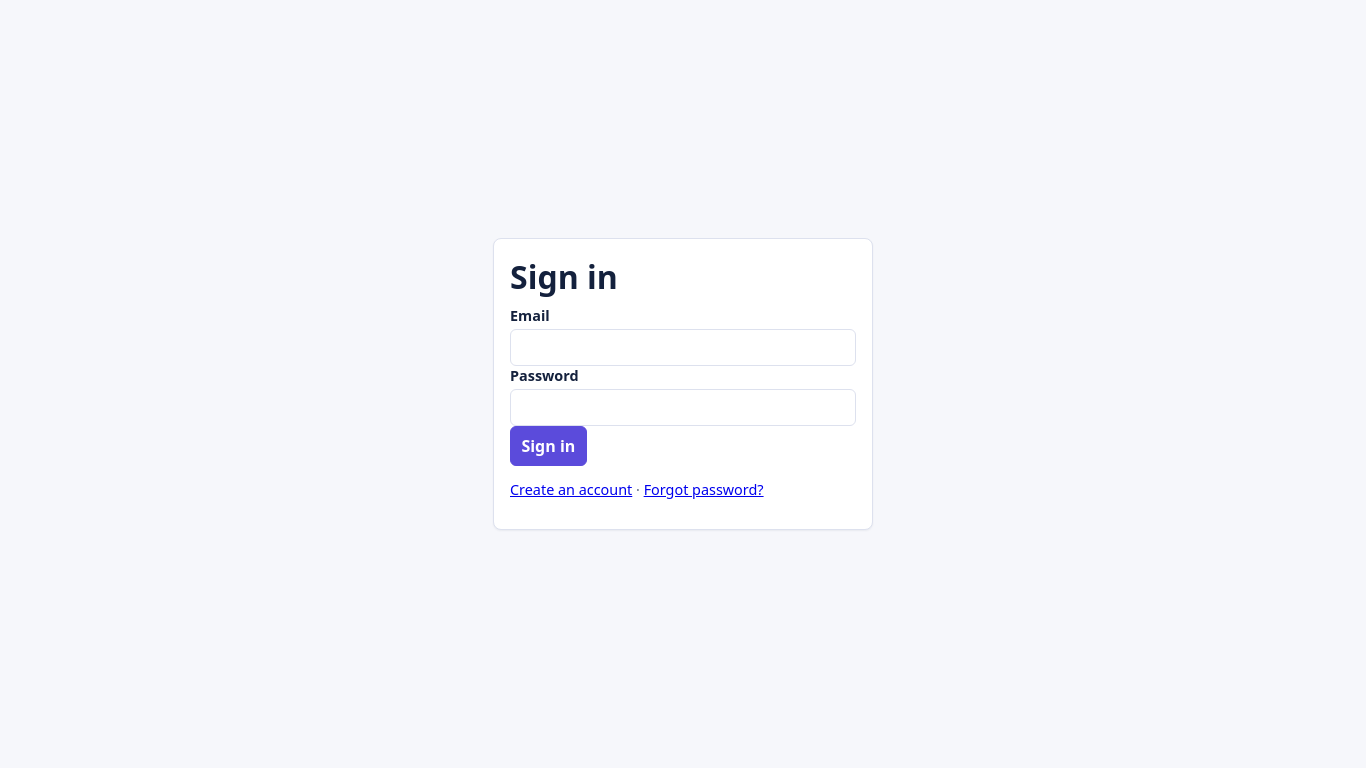
Scenario: authentication › protects routes, rejects bad credentials, signs in and out
Expected: the heading "Sign in" is shown, top-left (510, 255), bottom-right (618, 298)
In the field labelled "Email": [683, 347] box top-left (510, 329), bottom-right (856, 366), type "a@x.com"
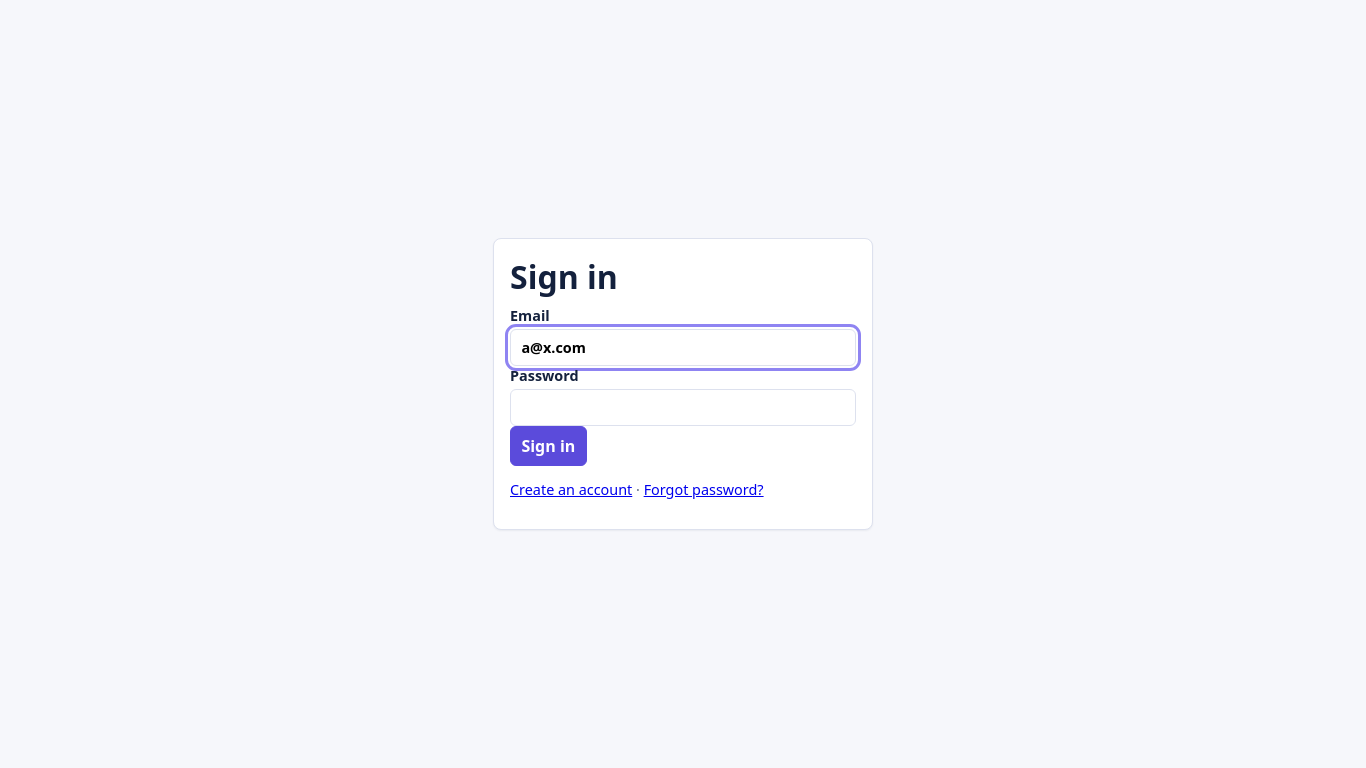
In the password field labelled "Password": [683, 407] box top-left (510, 389), bottom-right (856, 426), type "wrongpass1"
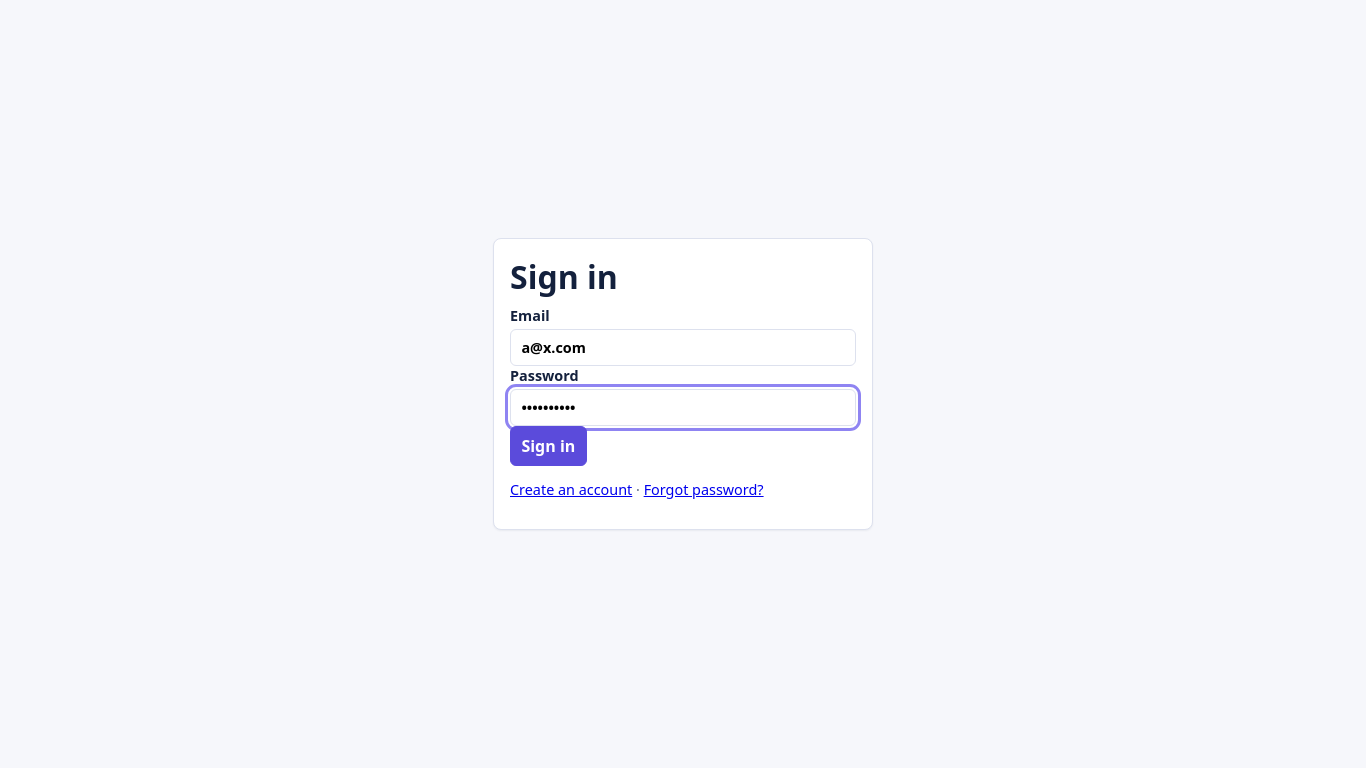
Click the button "Sign in": [548, 446] box top-left (510, 426), bottom-right (587, 466)
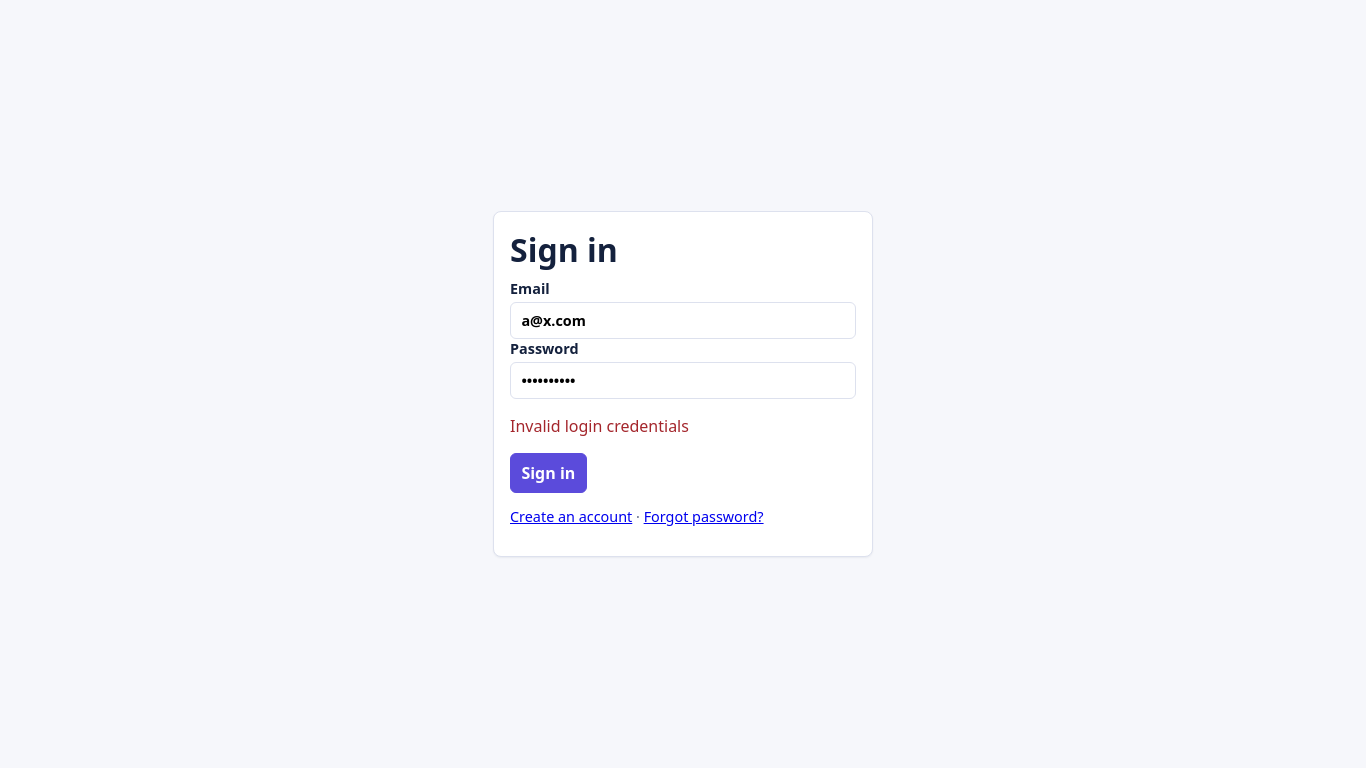
Expected: the message shows "Invalid login", top-left (510, 415), bottom-right (689, 437)
In the password field labelled "Password": [683, 380] box top-left (510, 362), bottom-right (856, 399), type "password1"
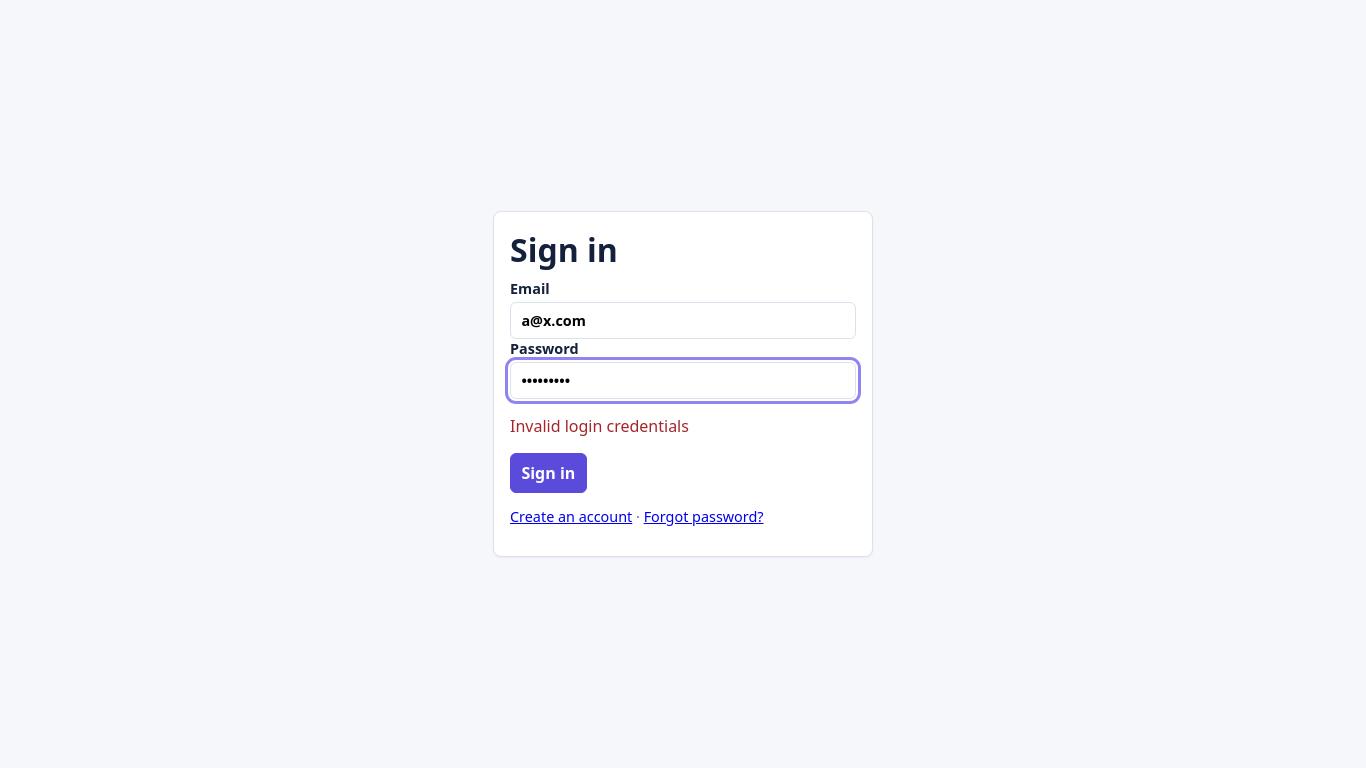
Click the button "Sign in": [548, 473] box top-left (510, 453), bottom-right (587, 493)
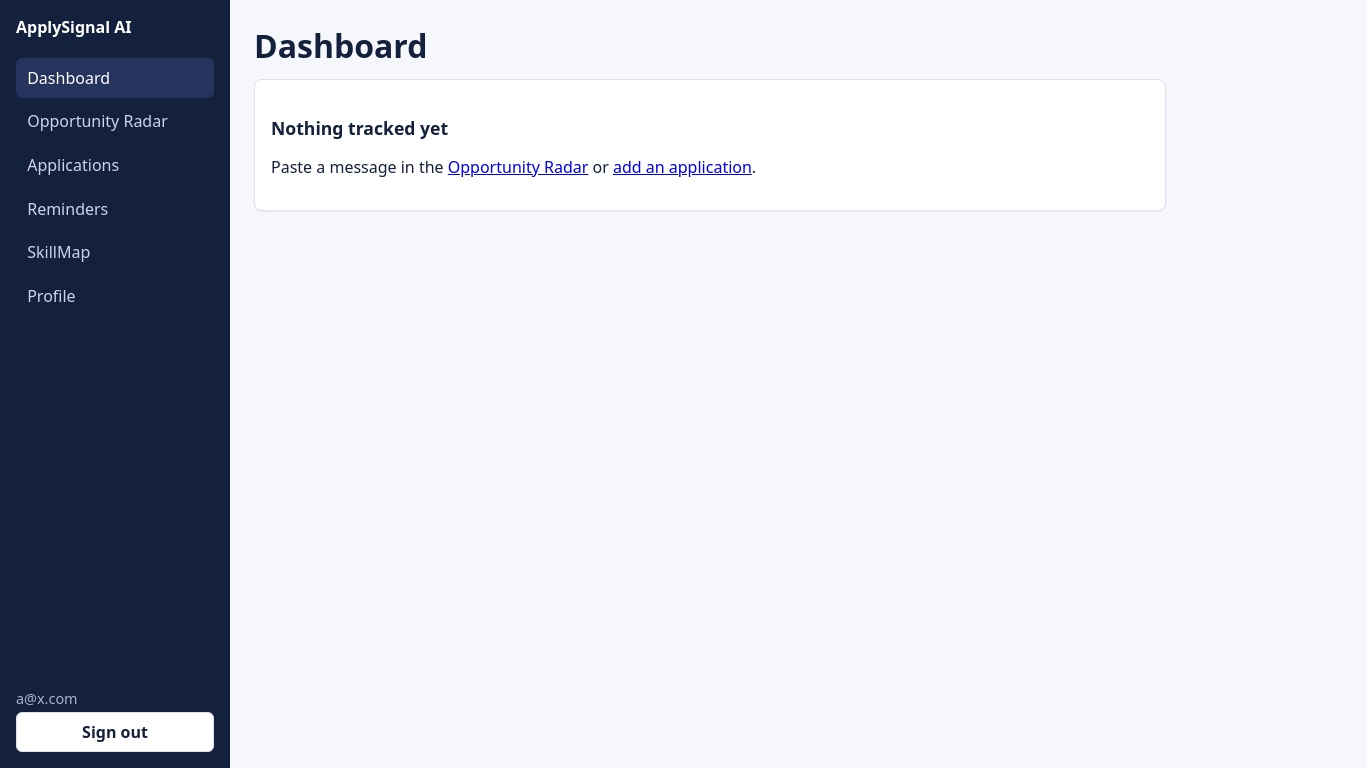
Expected: the heading "Dashboard" is shown, top-left (254, 24), bottom-right (428, 67)
Click the button "Sign out": [115, 732] box top-left (16, 712), bottom-right (214, 752)
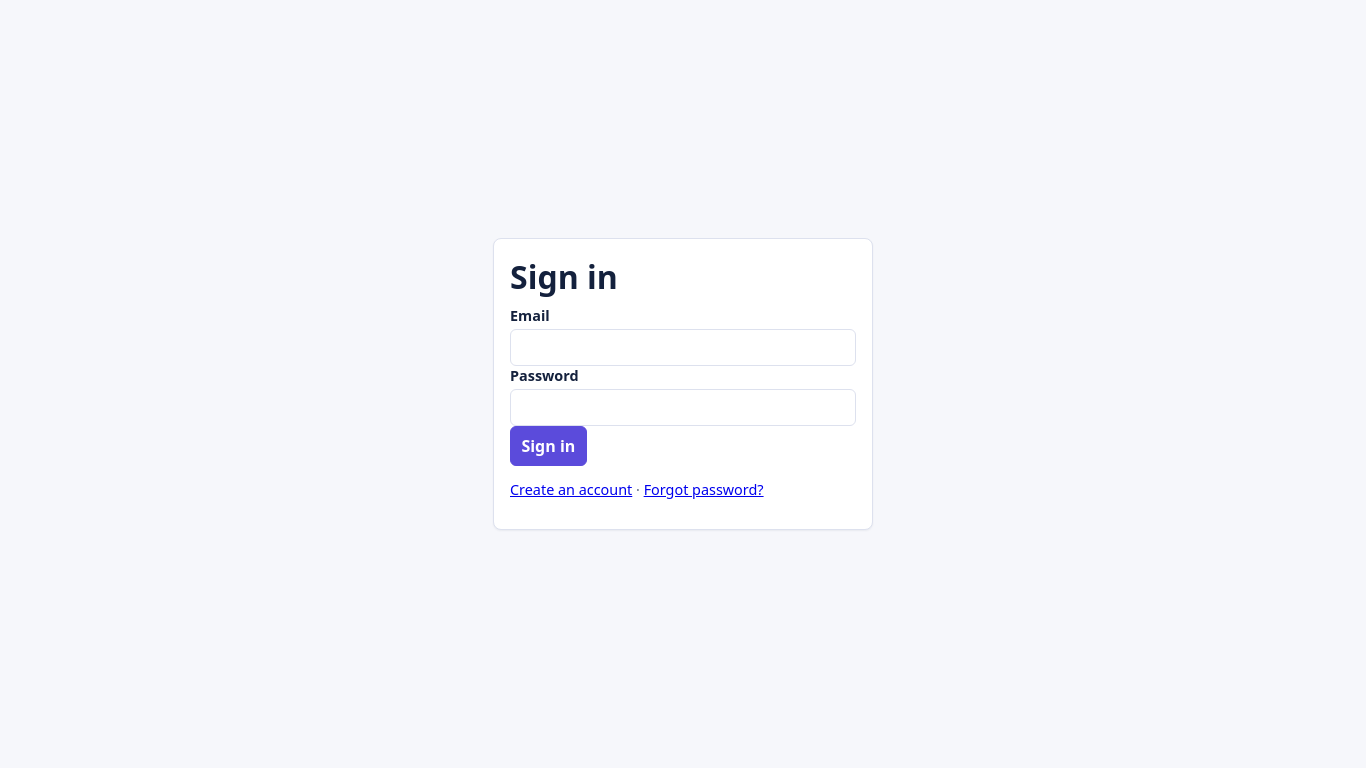
Expected: the heading "Sign in" is shown, top-left (510, 255), bottom-right (618, 298)
